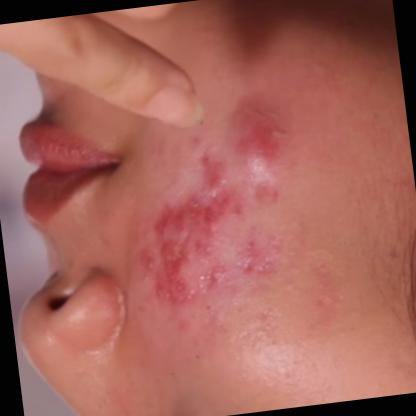Acne: (126, 172, 248, 324), (230, 115, 292, 182)
